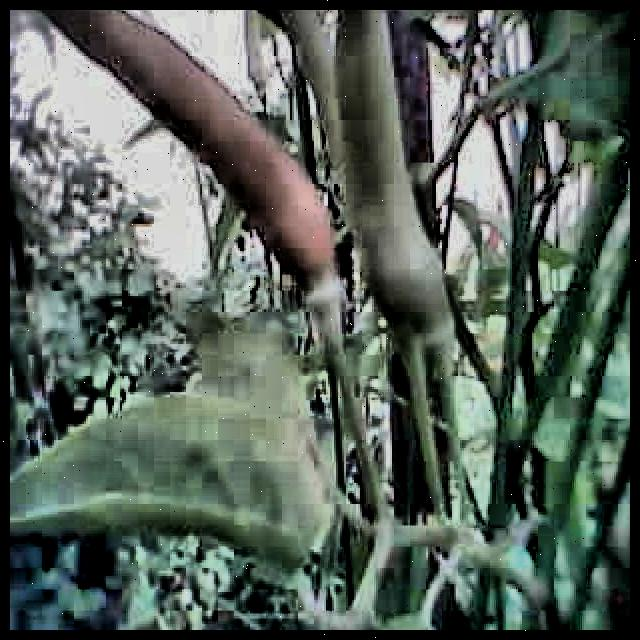Cabai: (69, 10, 341, 295)
